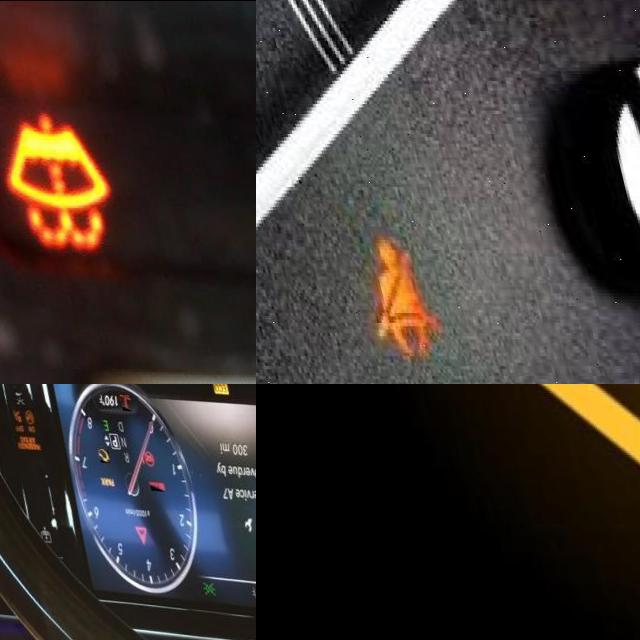Seat Belt: (345, 240, 431, 354)
Washer Fluid: (399, 384, 640, 536), (0, 113, 110, 248)
